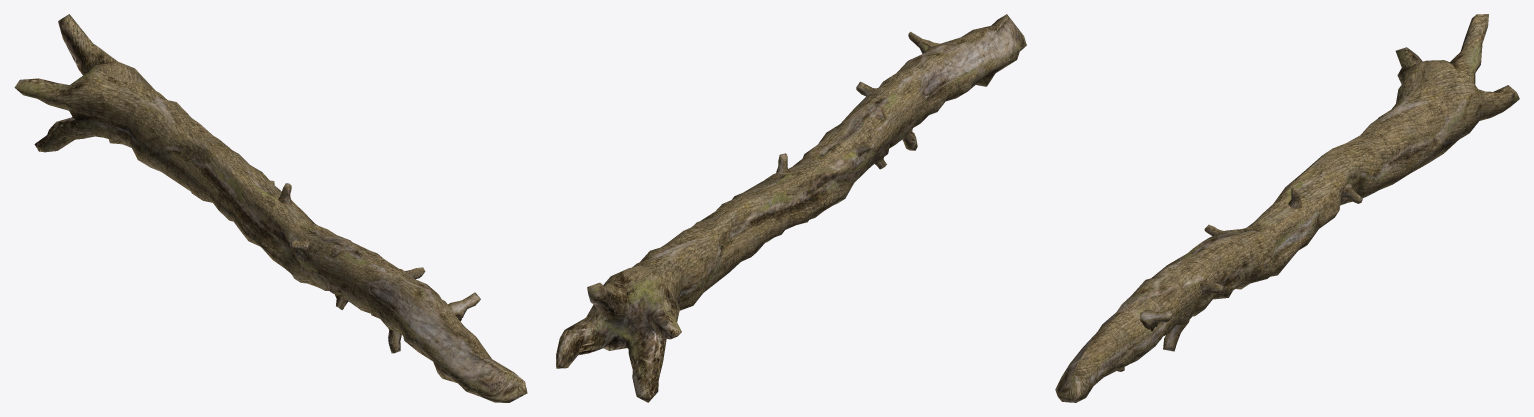
Rendered from fallen_tree_n.3_not_scanned.glb.
3 renders of one model, left to right at view 1: azimuth 30°, elevation 25°; view 2: azimuth 150°, elevation 25°; view 3: azimuth 330°, elevation 25°, orthographic.
Parts seen in each view (by area): view 1: polySurface7; view 2: polySurface7; view 3: polySurface7, polySurface4.
Part boxes in pixels (x1,y1,x2,y2): polySurface7: [14, 14, 527, 402]; polySurface7: [556, 14, 1026, 402]; polySurface7: [1055, 14, 1519, 402]; polySurface4: [1139, 309, 1172, 331].
Size of the model in its own units: 0.3129 by 0.2916 by 2.
Materials: 1 (1 with a texture image).
